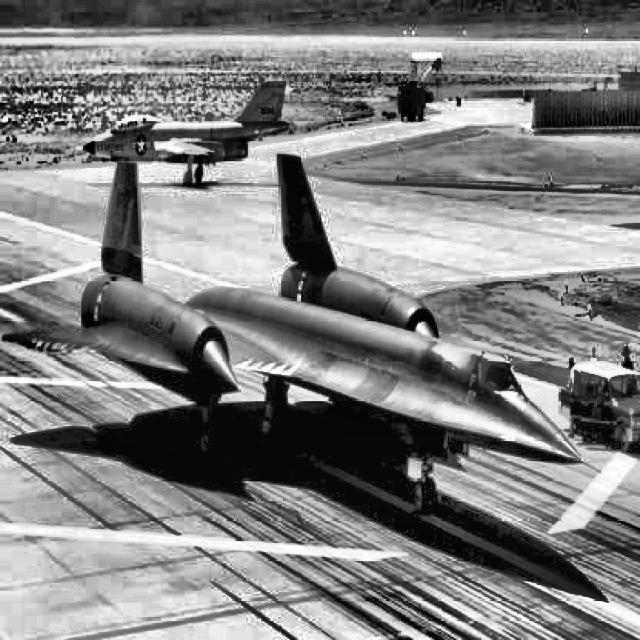F4: (75, 79, 291, 186)
SR71: (0, 152, 602, 518)
